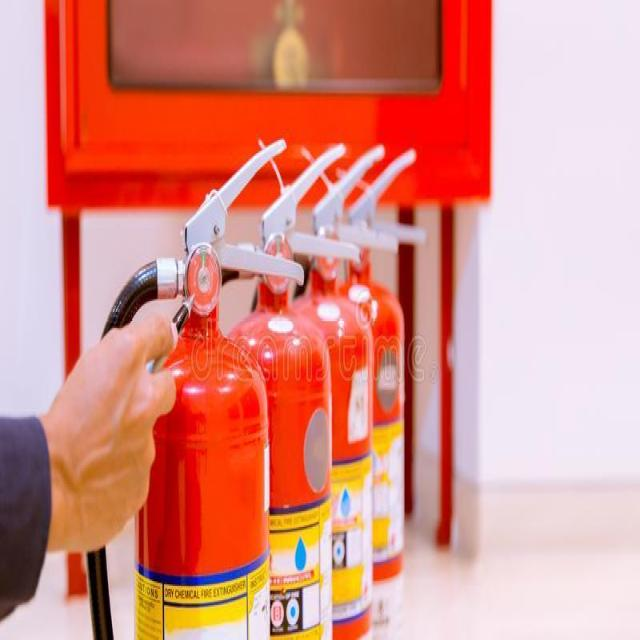fire_extinguisher: (82, 121, 306, 638), (224, 127, 366, 638)
